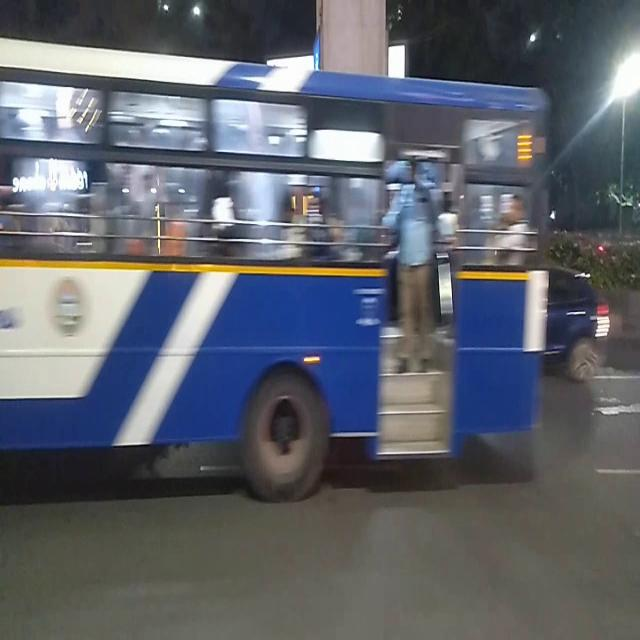bus: (0, 36, 549, 500)
car: (549, 257, 613, 381)
pole: (620, 97, 628, 217)
road: (0, 424, 640, 634)
